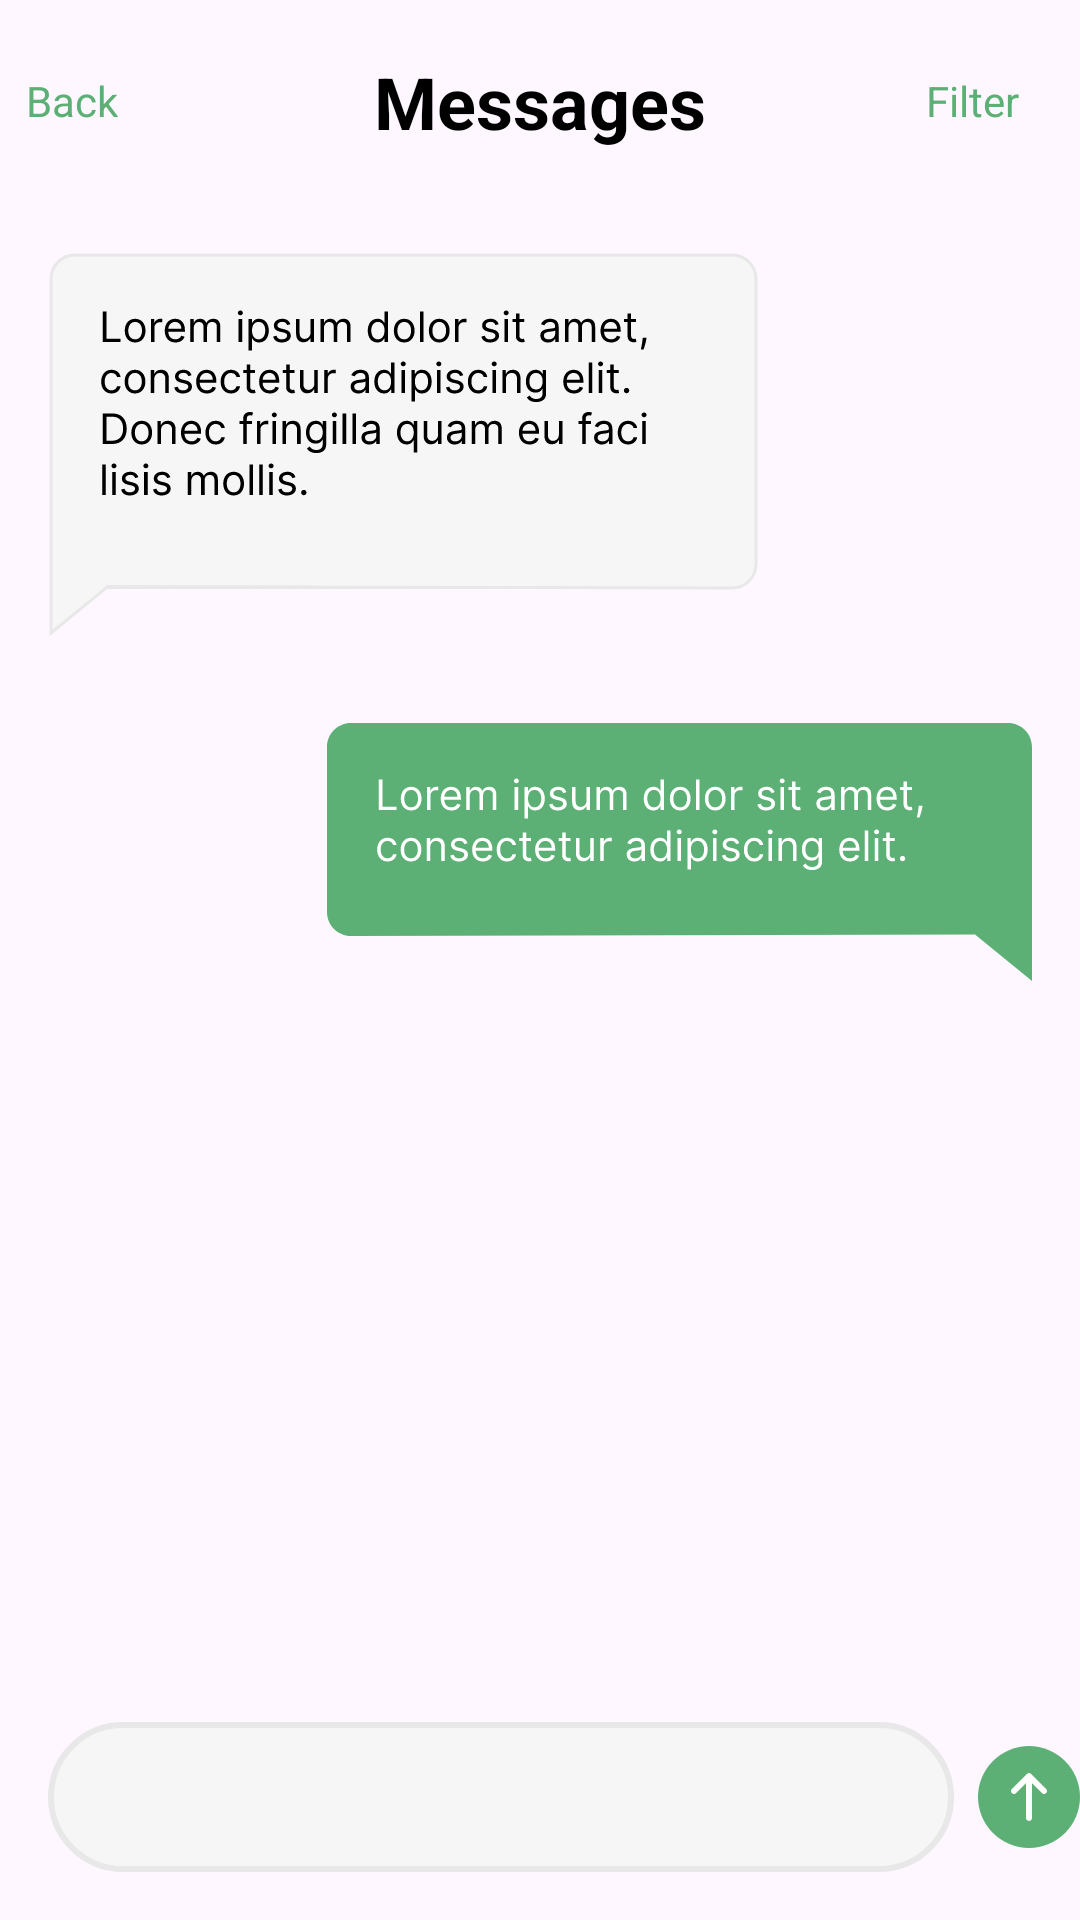

Screen size 1080x1920. Icon name, then its center in pixels as (x,y):
send: (1029,1797)
